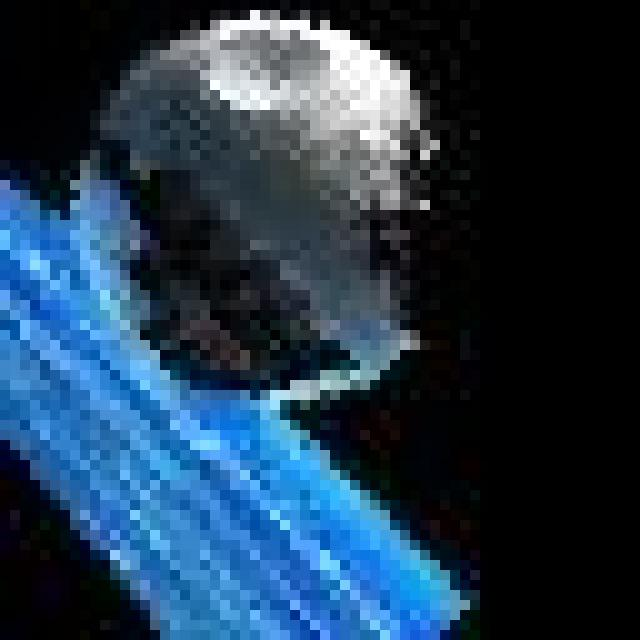Death Star: (43, 20, 480, 422)
